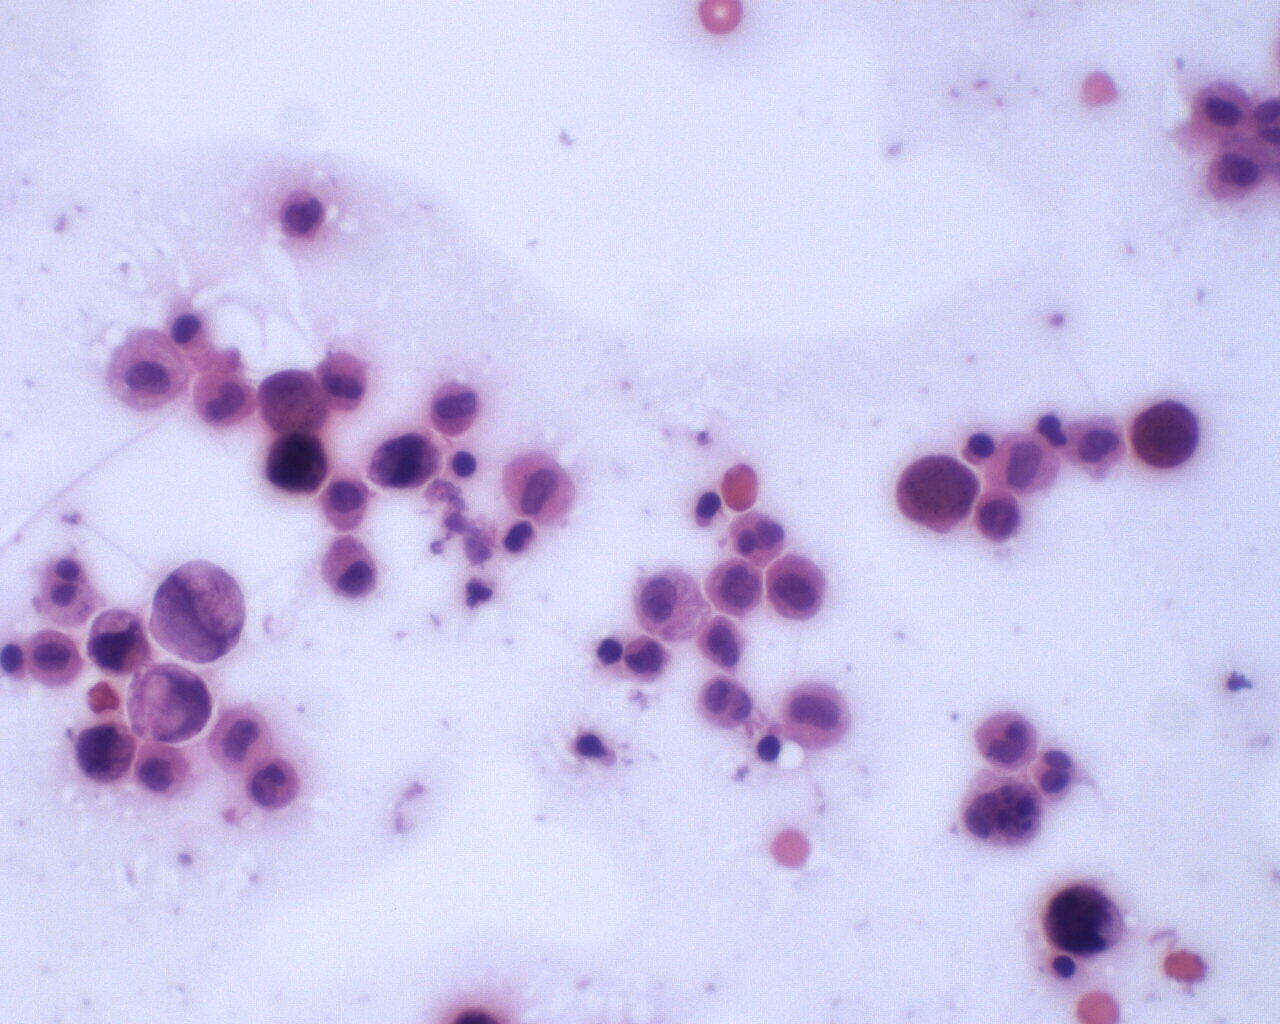ab: (897, 447, 987, 539), (1044, 880, 1128, 967), (1128, 393, 1207, 476), (82, 601, 161, 680), (260, 426, 333, 501), (257, 366, 333, 435), (368, 430, 443, 494), (764, 550, 827, 621), (75, 717, 137, 786), (704, 553, 766, 616), (973, 488, 1026, 543), (622, 633, 670, 681)
lymph: (447, 447, 479, 481), (754, 734, 785, 763)
meso: (99, 323, 195, 414), (317, 533, 385, 605), (1190, 77, 1252, 141), (24, 627, 85, 689), (318, 475, 371, 534)
